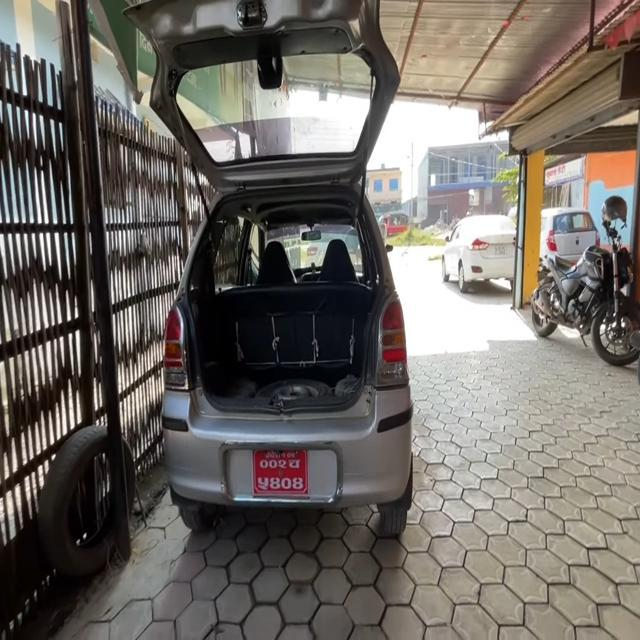license_plate: (520, 218, 640, 368), (241, 438, 333, 515)
